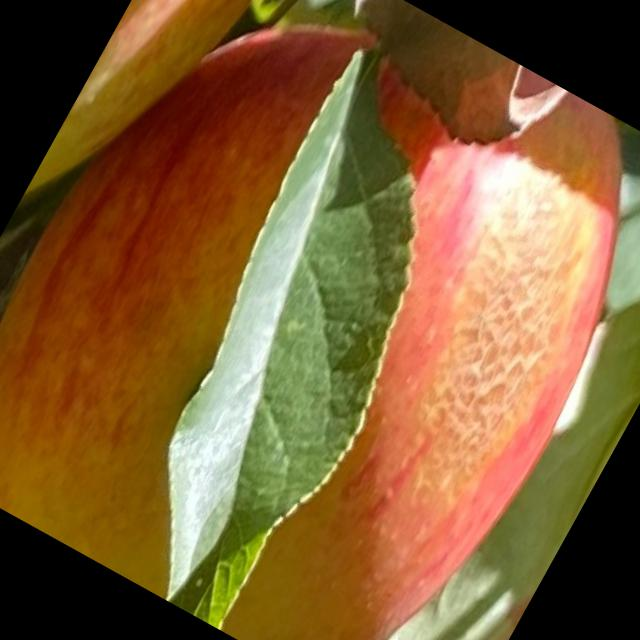Apples: (0, 0, 639, 639), (20, 0, 283, 250)
